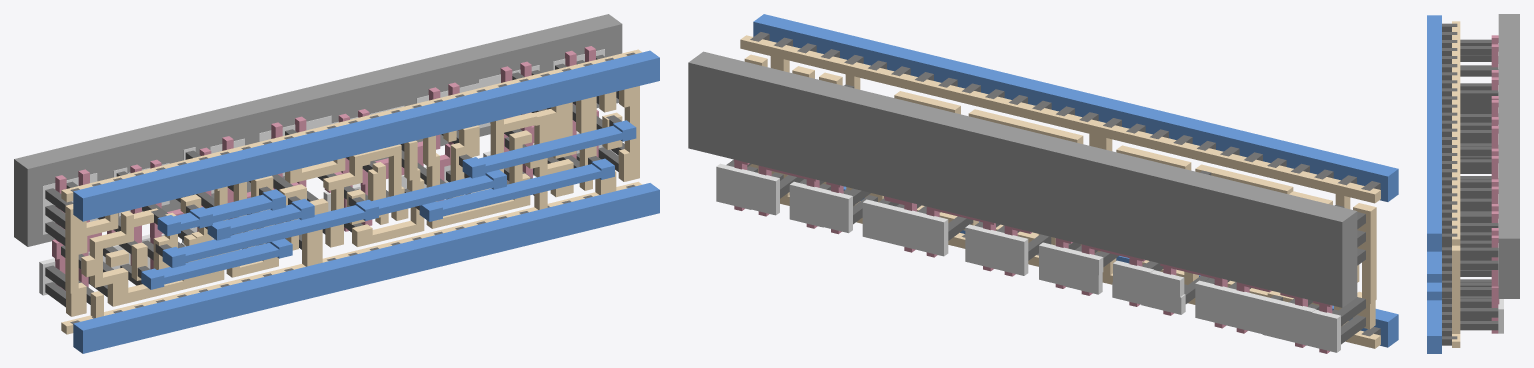
The model's file is sky130_fd_sc_hd__fahcin_1.gds.gltf.
3 renders of one model, left to right at view 1: azimuth 30°, elevation 25°; view 2: azimuth 150°, elevation 25°; view 3: azimuth 270°, elevation 25°, orthographic. The views are drawn at different scales.
Parts seen in each view (by area): view 1: sky130_fd_sc_hd__fahcin_1_met1, sky130_fd_sc_hd__fahcin_1_li1, sky130_fd_sc_hd__fahcin_1_nwell, sky130_fd_sc_hd__fahcin_1_licon, sky130_fd_sc_hd__fahcin_1_poly, sky130_fd_sc_hd__fahcin_1_diff, sky130_fd_sc_hd__fahcin_1_mcon; view 2: sky130_fd_sc_hd__fahcin_1_nwell, sky130_fd_sc_hd__fahcin_1_diff, sky130_fd_sc_hd__fahcin_1_li1, sky130_fd_sc_hd__fahcin_1_met1, sky130_fd_sc_hd__fahcin_1_licon, sky130_fd_sc_hd__fahcin_1_mcon, sky130_fd_sc_hd__fahcin_1_poly; view 3: sky130_fd_sc_hd__fahcin_1_licon, sky130_fd_sc_hd__fahcin_1_nwell, sky130_fd_sc_hd__fahcin_1_met1, sky130_fd_sc_hd__fahcin_1_mcon, sky130_fd_sc_hd__fahcin_1_li1, sky130_fd_sc_hd__fahcin_1_poly, sky130_fd_sc_hd__fahcin_1_diff.
Part boxes in pixels (bbox=[...]): sky130_fd_sc_hd__fahcin_1_met1: bbox=[73, 50, 659, 353]; sky130_fd_sc_hd__fahcin_1_li1: bbox=[61, 49, 641, 334]; sky130_fd_sc_hd__fahcin_1_nwell: bbox=[14, 14, 622, 246]; sky130_fd_sc_hd__fahcin_1_licon: bbox=[45, 54, 624, 307]; sky130_fd_sc_hd__fahcin_1_poly: bbox=[52, 46, 598, 290]; sky130_fd_sc_hd__fahcin_1_diff: bbox=[39, 49, 604, 295]; sky130_fd_sc_hd__fahcin_1_mcon: bbox=[70, 52, 635, 324]; sky130_fd_sc_hd__fahcin_1_nwell: bbox=[688, 51, 1357, 307]; sky130_fd_sc_hd__fahcin_1_diff: bbox=[716, 163, 1340, 352]; sky130_fd_sc_hd__fahcin_1_li1: bbox=[740, 35, 1380, 348]; sky130_fd_sc_hd__fahcin_1_met1: bbox=[753, 14, 1398, 347]; sky130_fd_sc_hd__fahcin_1_licon: bbox=[726, 84, 1365, 344]; sky130_fd_sc_hd__fahcin_1_mcon: bbox=[750, 32, 1380, 336]; sky130_fd_sc_hd__fahcin_1_poly: bbox=[734, 159, 1332, 353]; sky130_fd_sc_hd__fahcin_1_licon: bbox=[1460, 39, 1498, 330]; sky130_fd_sc_hd__fahcin_1_nwell: bbox=[1498, 14, 1519, 298]; sky130_fd_sc_hd__fahcin_1_met1: bbox=[1427, 15, 1441, 353]; sky130_fd_sc_hd__fahcin_1_mcon: bbox=[1442, 23, 1457, 345]; sky130_fd_sc_hd__fahcin_1_li1: bbox=[1452, 21, 1460, 347]; sky130_fd_sc_hd__fahcin_1_poly: bbox=[1491, 35, 1499, 333]; sky130_fd_sc_hd__fahcin_1_diff: bbox=[1498, 43, 1503, 333].
Bounding box in the file's own units: 12.8 × 3.2 × 2.24.
